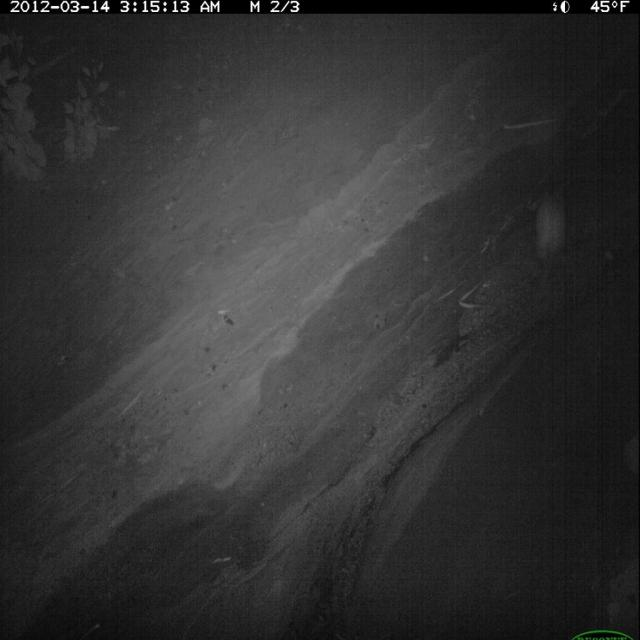opossum: (528, 177, 576, 305)
